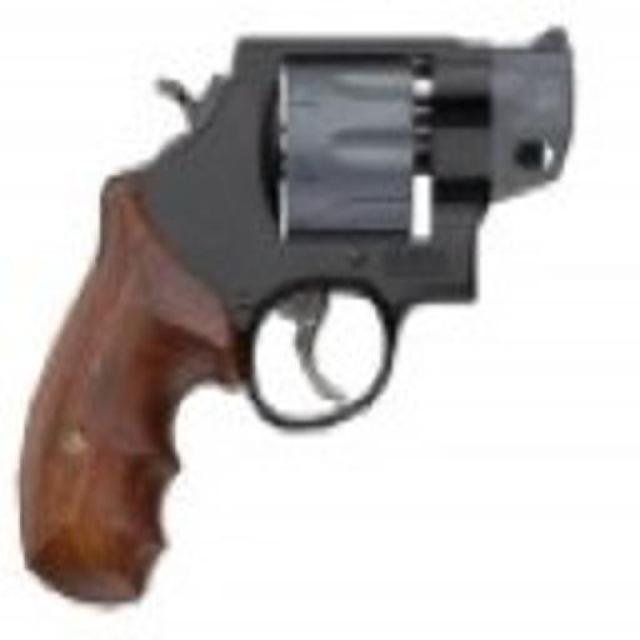pistol: (11, 26, 567, 596)
